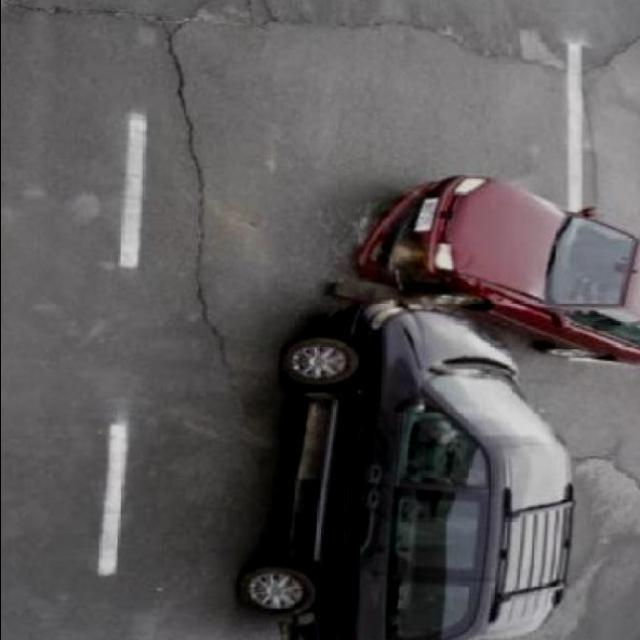accident: (243, 173, 580, 640)
